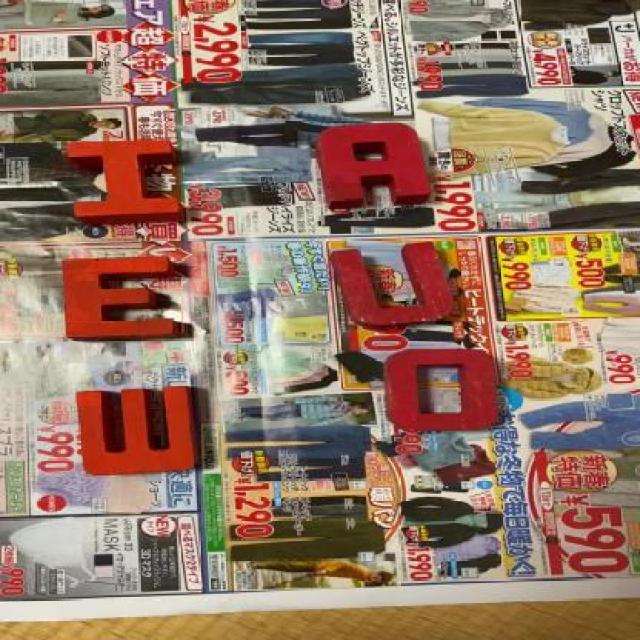A: (316, 122, 436, 208)
E: (61, 253, 185, 341)
I: (58, 135, 175, 220)
O: (386, 347, 508, 425)
U: (328, 244, 450, 325)
W: (80, 388, 198, 472)
